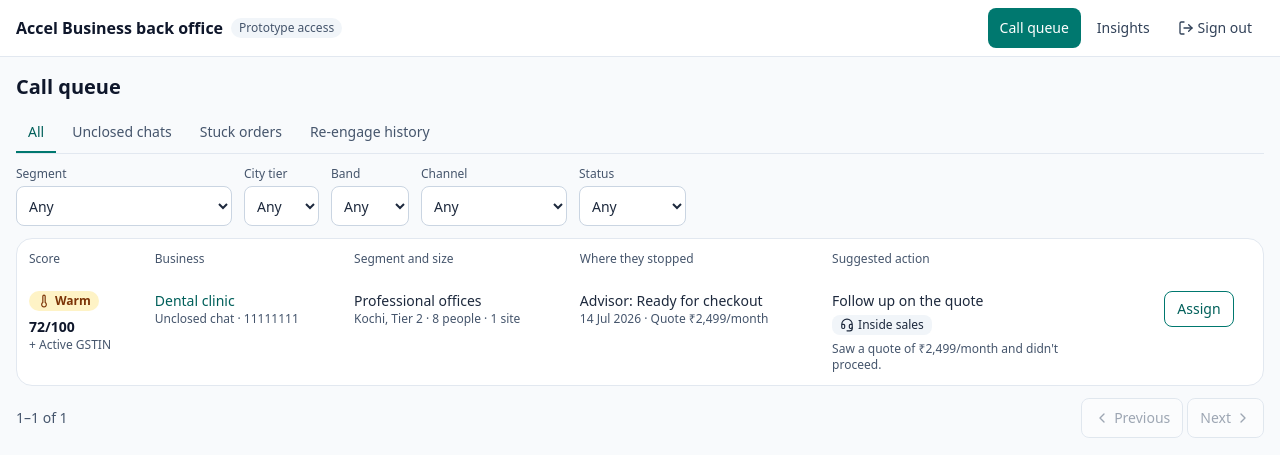
it: queue › the re-engage tab shows counts per reason and hides the filters
Click the tab "Re-engage history" at (370, 133), box [298,113,442,153]
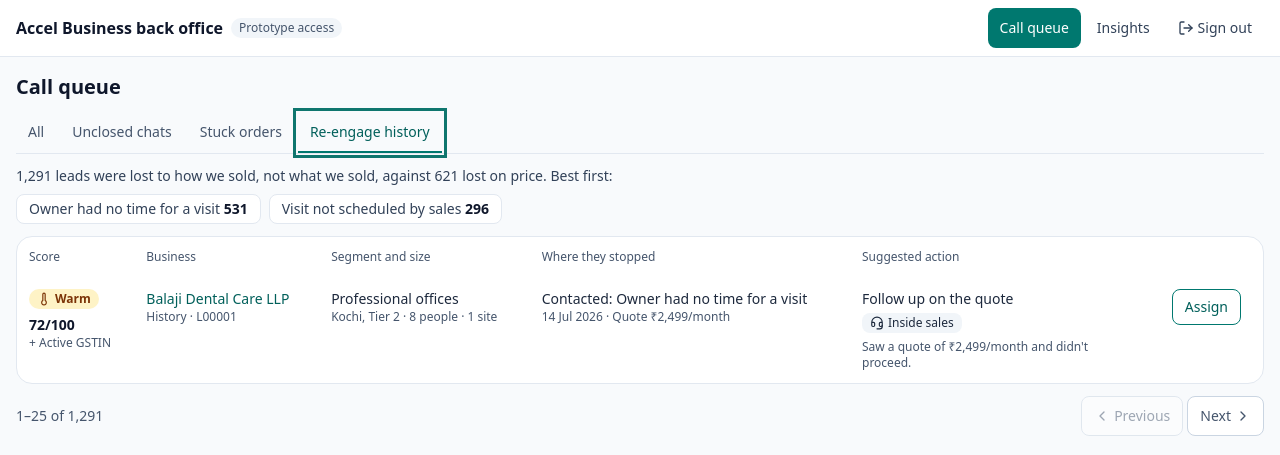
Expected: the text "Owner had no time for a visit" is shown, [29,199,220,218]
Expected: the text "531" is shown, [224,199,248,218]
Expected: the text "1,291 leads were lost" is shown, [16,166,612,185]
